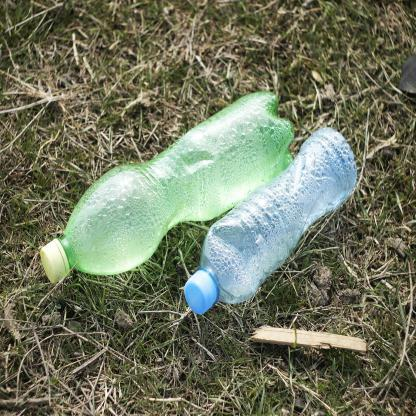bottle: (19, 89, 295, 288), (180, 122, 362, 361)
